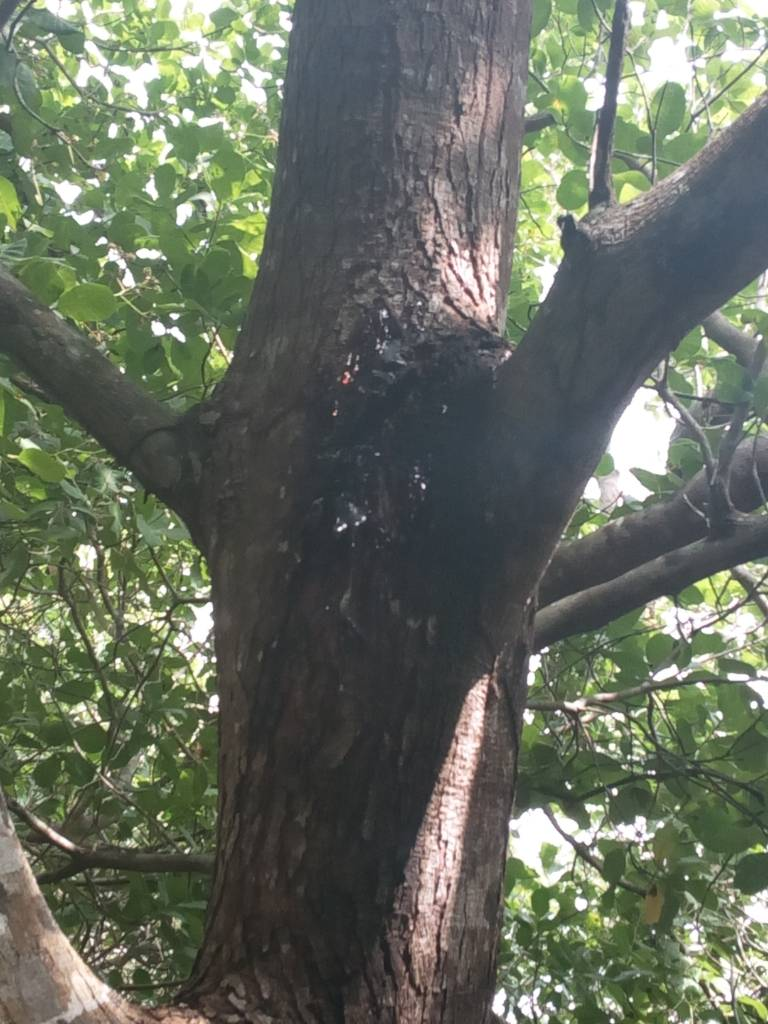Gommose: (269, 322, 497, 644)
